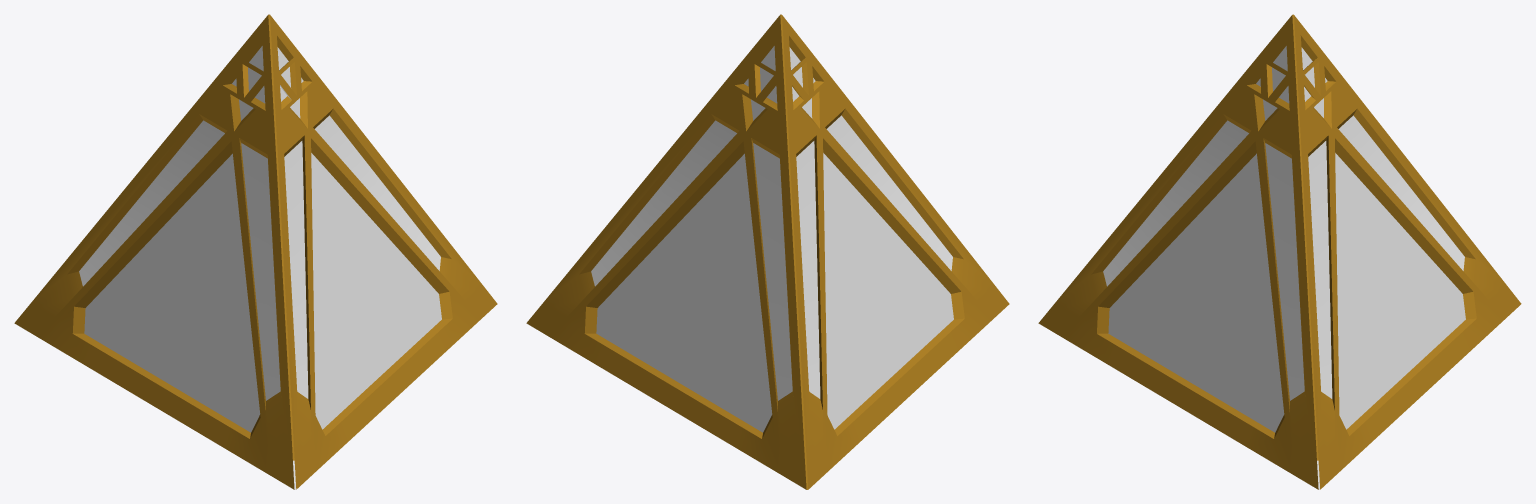
The model's file is SithHolo.fbx.
3 views of the same model, side by side, from view 1: azimuth 30°, elevation 25°; view 2: azimuth 150°, elevation 25°; view 3: azimuth 270°, elevation 25° (orthographic).
Parts seen in each view (by area): view 1: Cone; view 2: Cone; view 3: Cone.
Part boxes in pixels (x1,y1,x2,y2): Cone: [14, 14, 497, 489]; Cone: [526, 14, 1009, 489]; Cone: [1038, 14, 1521, 489].
Bounding box in the file's own units: 202 × 182 × 221.
